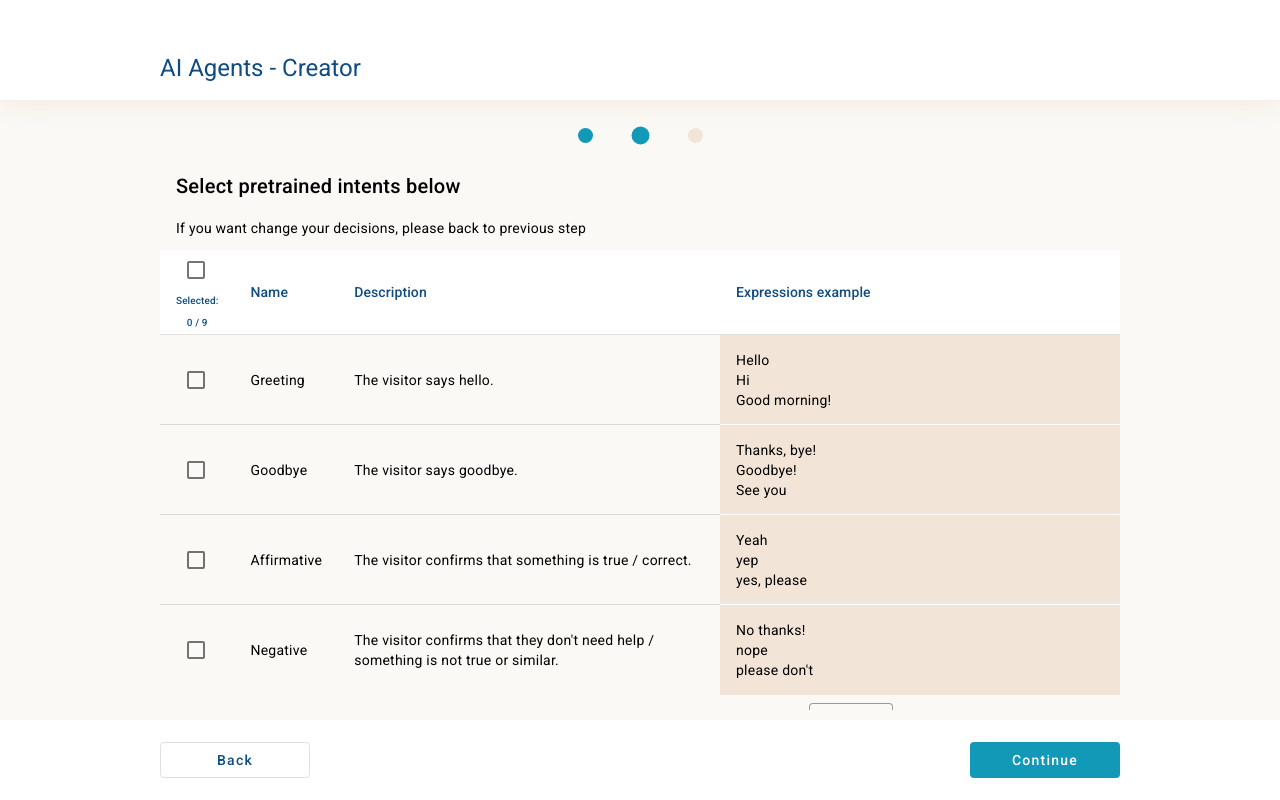
Table with selection checkboxes › should display the correct number of selected intents in the counter when unselect
Click the element with test id "intent-checkbox-34d7831e137a4016a55f98926800a643" at (196, 380), box left=187, top=371, right=205, bottom=389
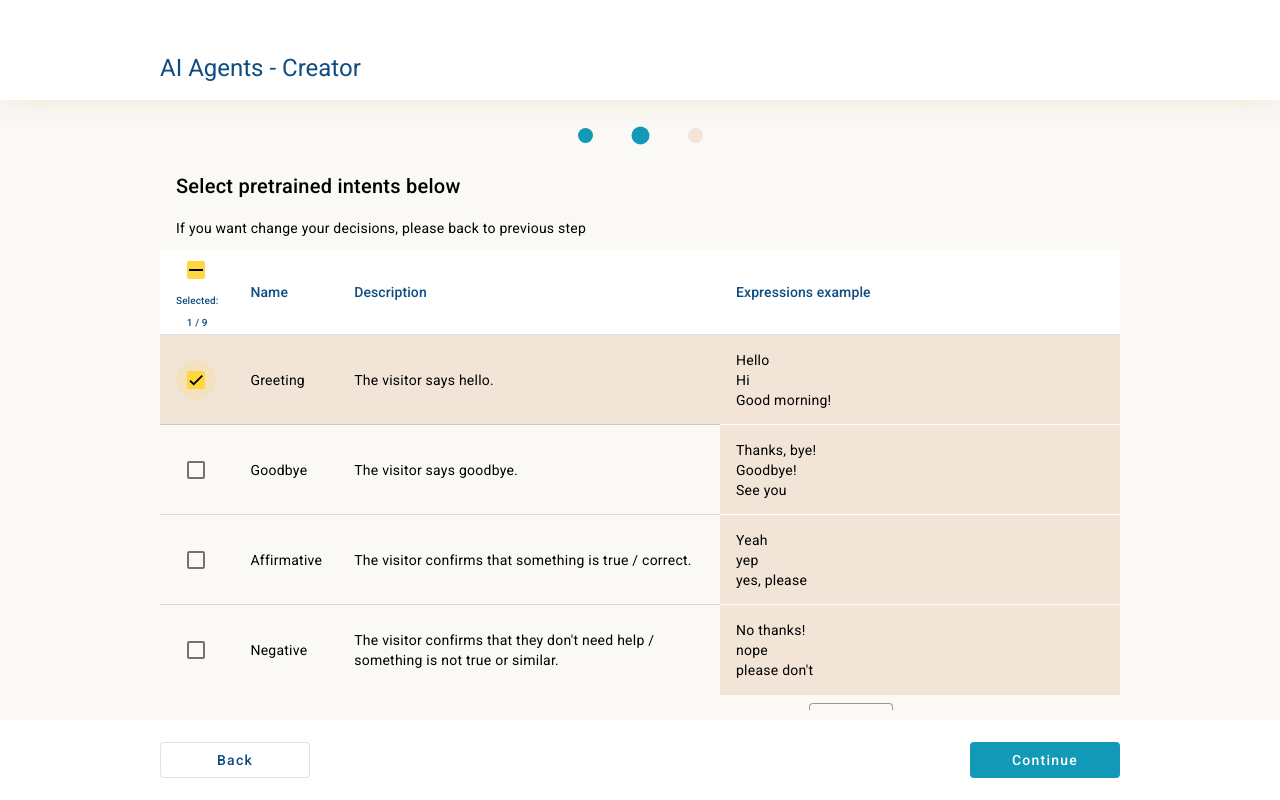
Click the element with test id "intent-checkbox-34d7831e137a4016a55f98926800a643" at (196, 380), box left=176, top=360, right=216, bottom=400
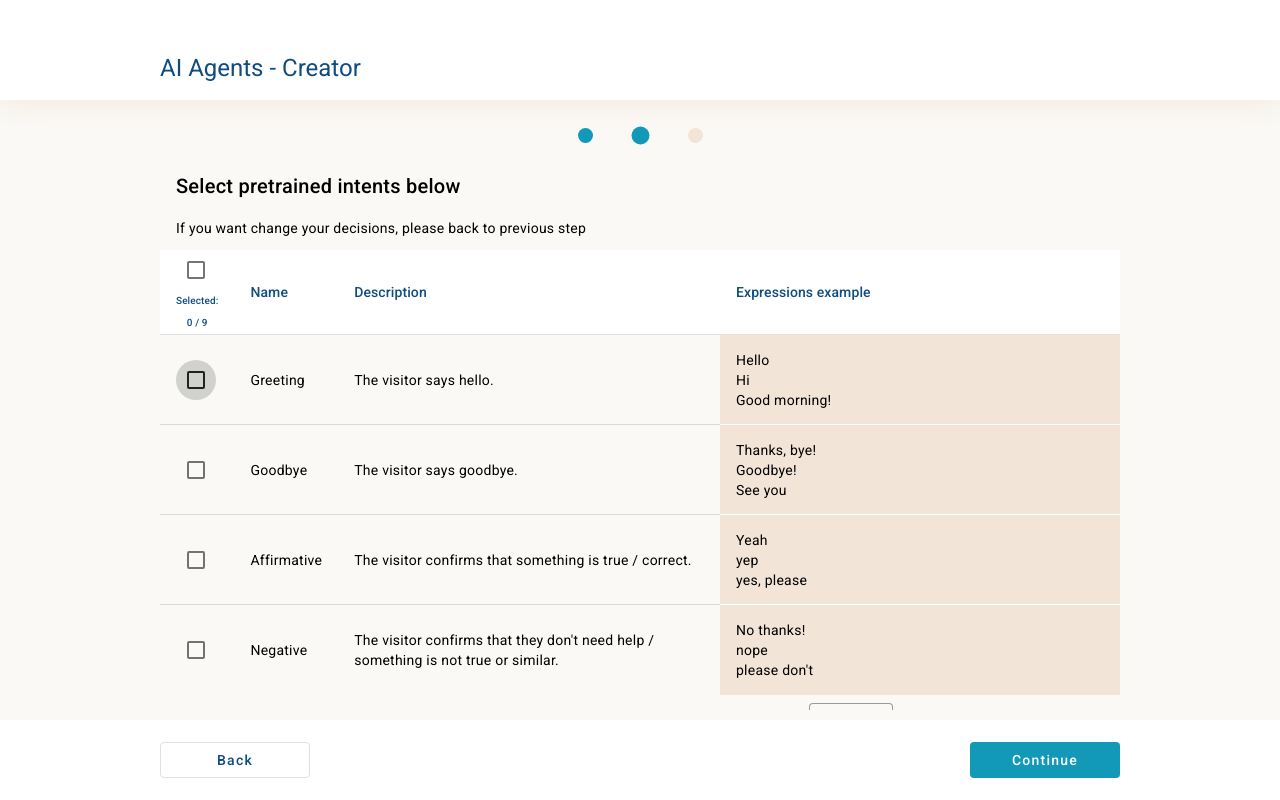
Click the element with test id "intent-checkbox-b6ec3deac5f94500aef55d9c410e37f7" at (196, 470), box left=187, top=461, right=205, bottom=479
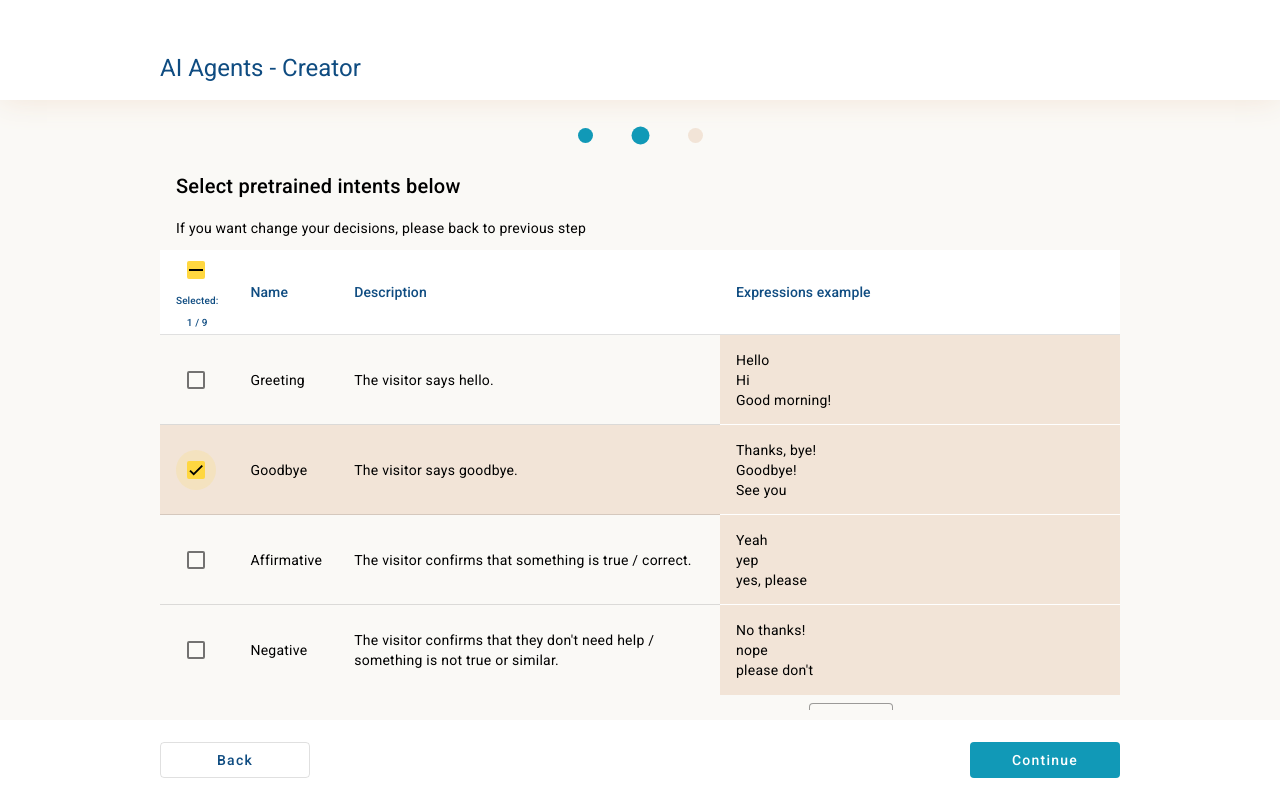
Click the element with test id "intent-checkbox-b6ec3deac5f94500aef55d9c410e37f7" at (196, 470), box left=176, top=450, right=216, bottom=490
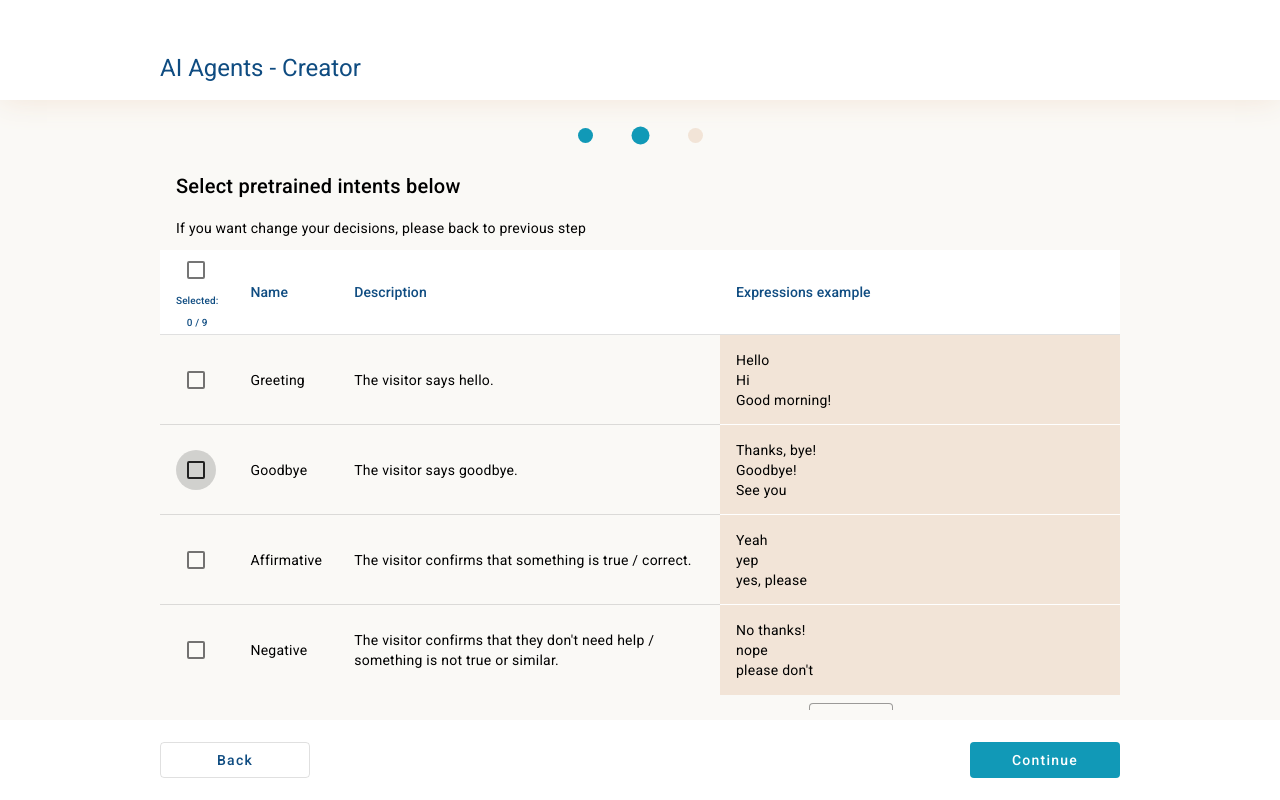
Now the text with test id "selected-intents-length" shows "0", box left=187, top=317, right=208, bottom=328
